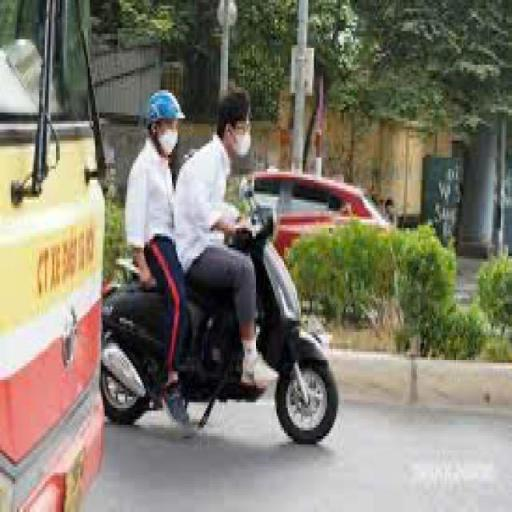with helmet: (144, 87, 186, 130)
